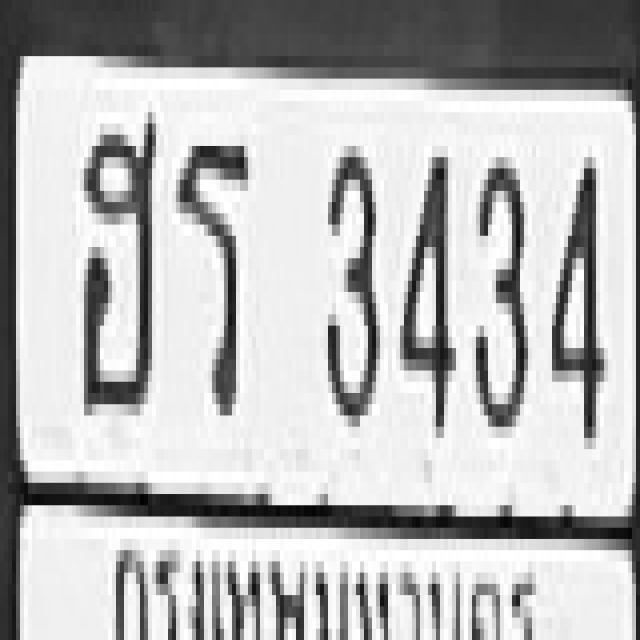-: (80, 106, 152, 410), (172, 124, 248, 404)
3: (320, 135, 376, 415), (472, 146, 524, 427)
4: (396, 134, 452, 426), (548, 146, 600, 427)
